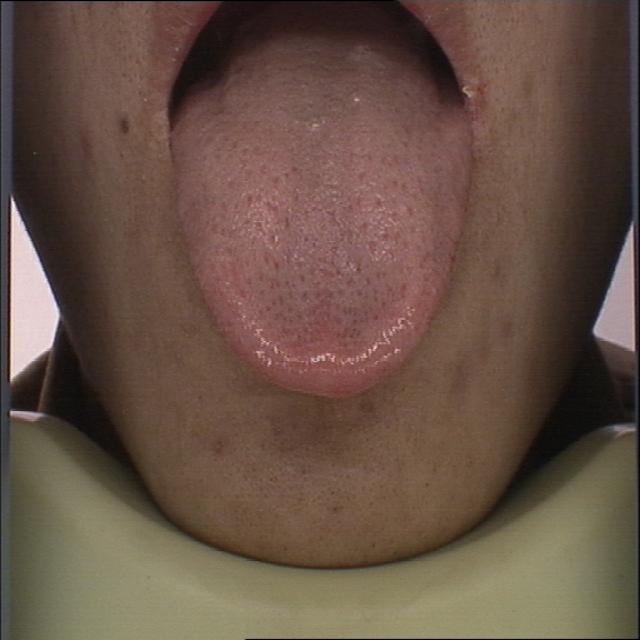tongue: (160, 46, 484, 399)
